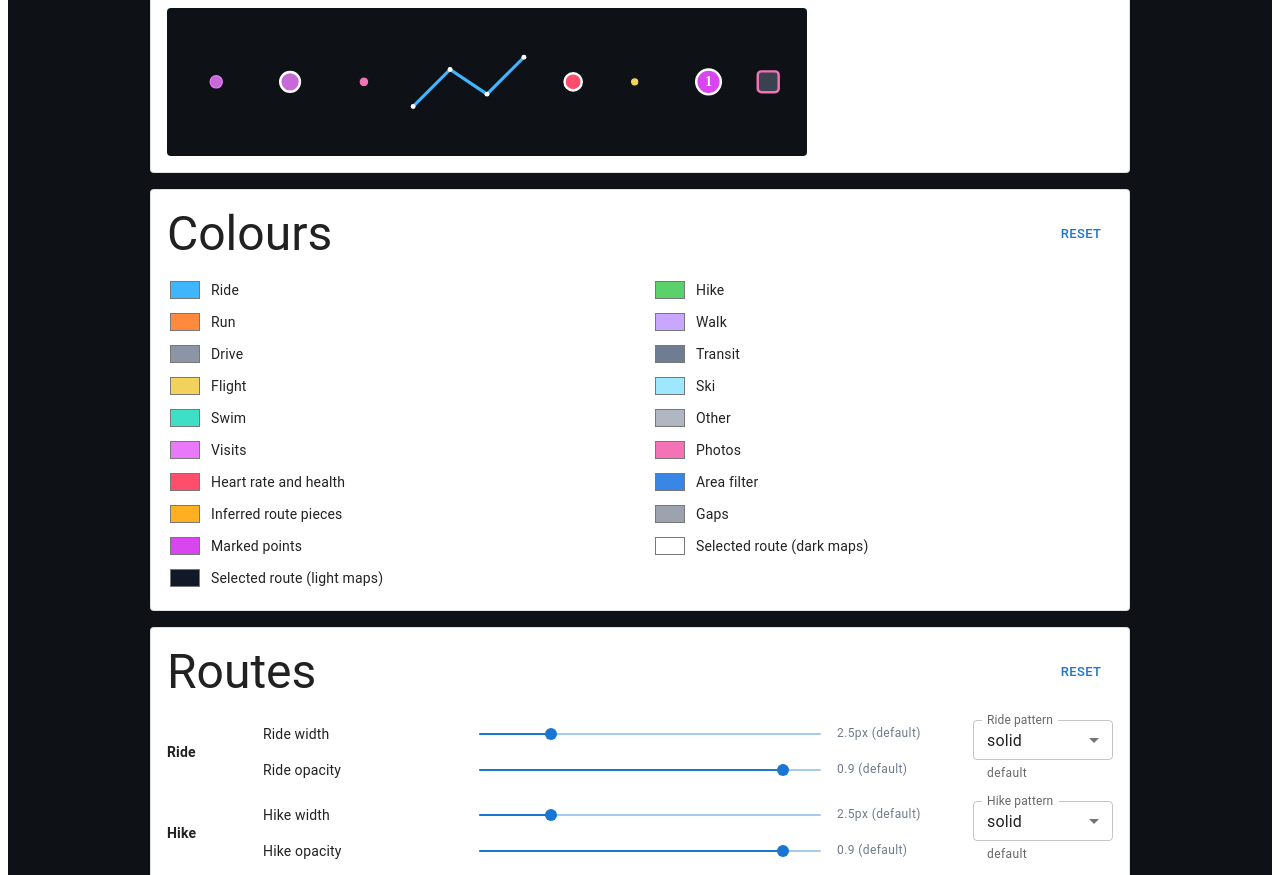
Test: the Settings page › changes a colour and offers its default back
(page scrolled)
Type "#00ff00" into the colour field named "Visits colour" at (185, 450), box [167, 436, 203, 464]
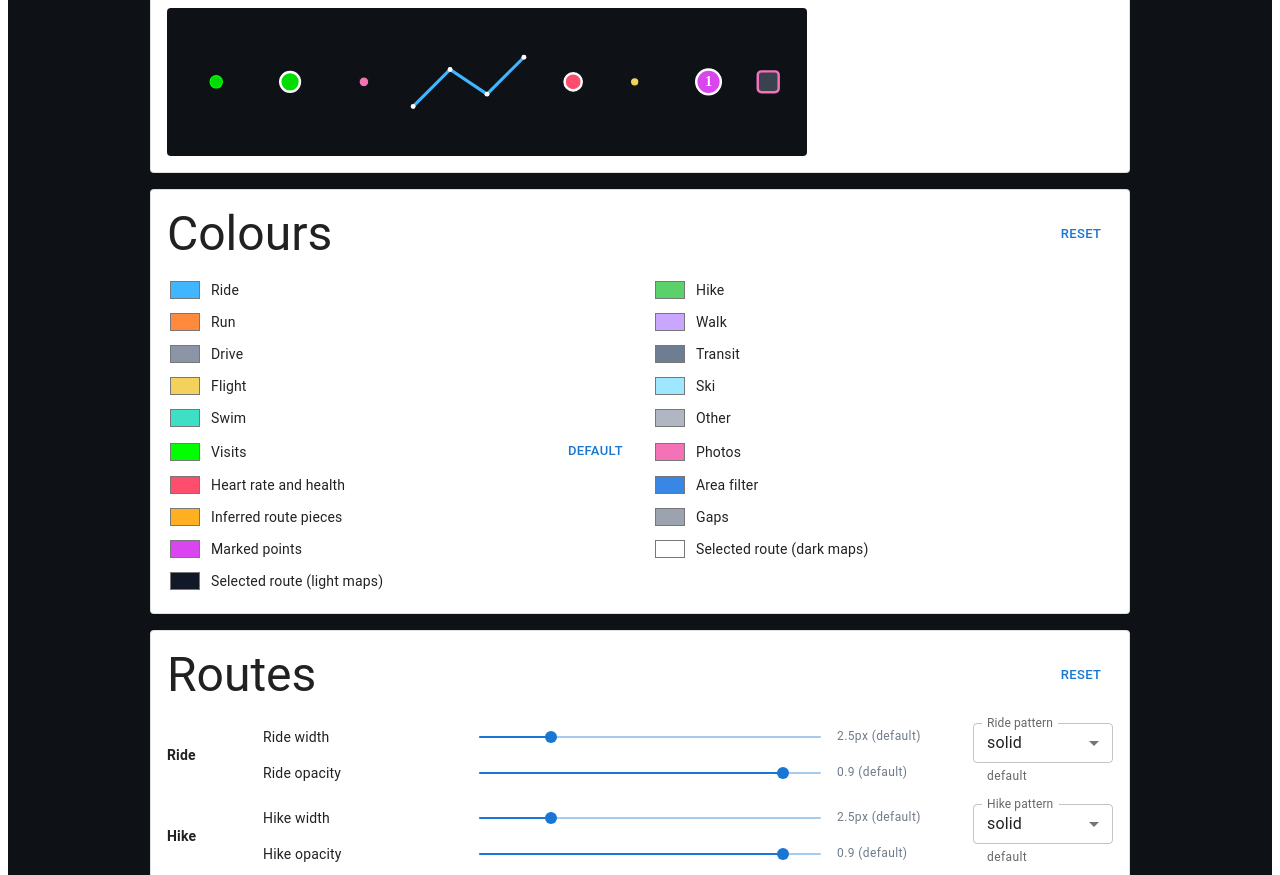
Click the button with aria-label "default: reset the Visits colour" at (596, 452), box [563, 436, 628, 467]
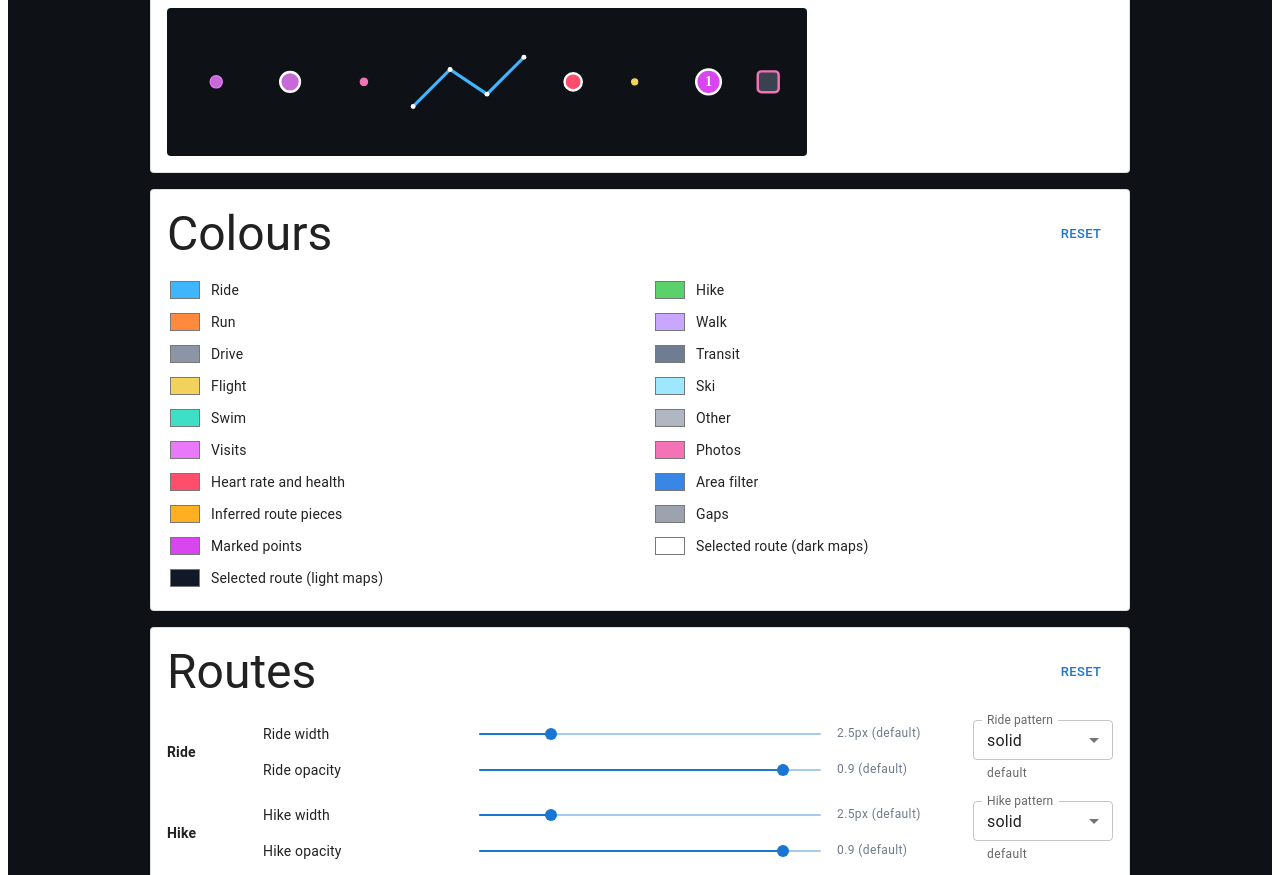
Expected: the colour field named "Visits colour" holds "#e879f9", [167, 436, 203, 464]
